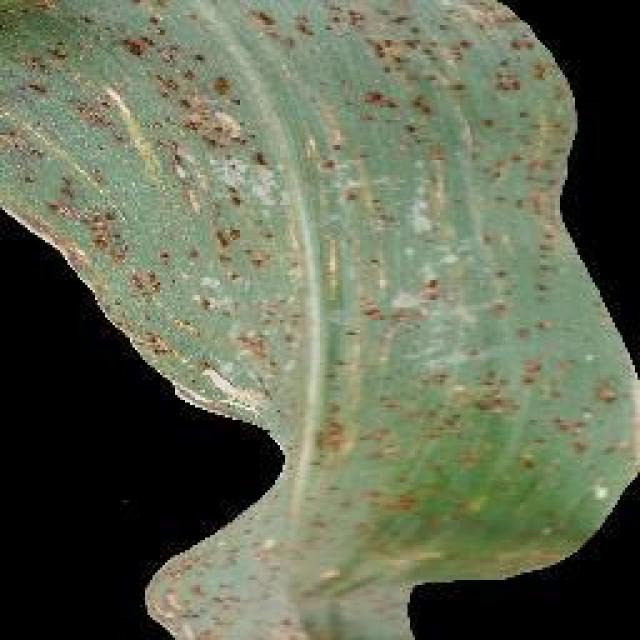Corn Common Rust: (38, 15, 522, 580)
